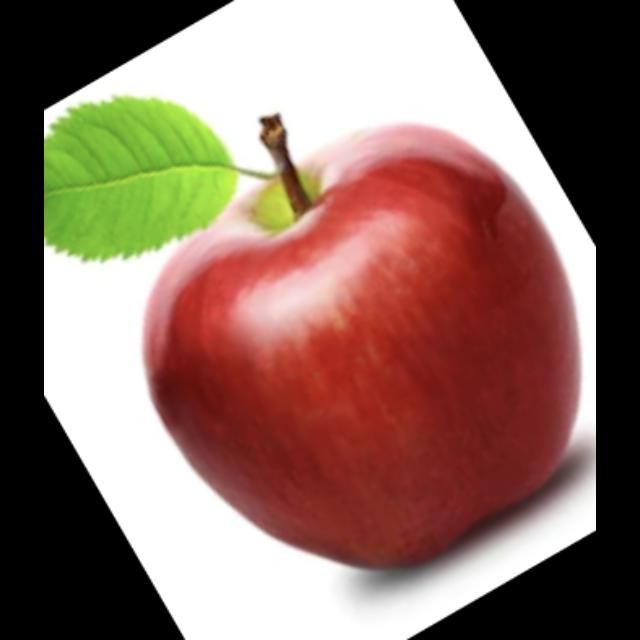Apel Segar: (138, 118, 584, 576)
